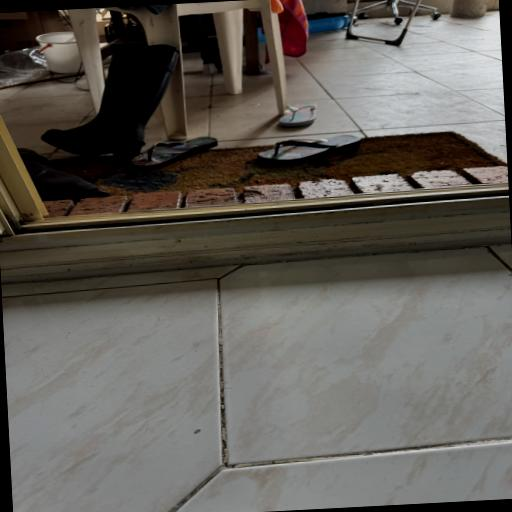step: (0, 184, 512, 283)
